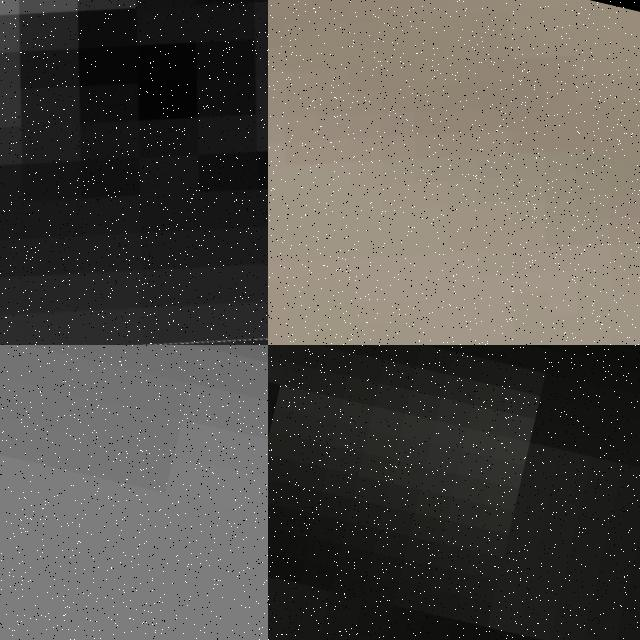0: (0, 0, 268, 345)
drone: (268, 0, 640, 345)
